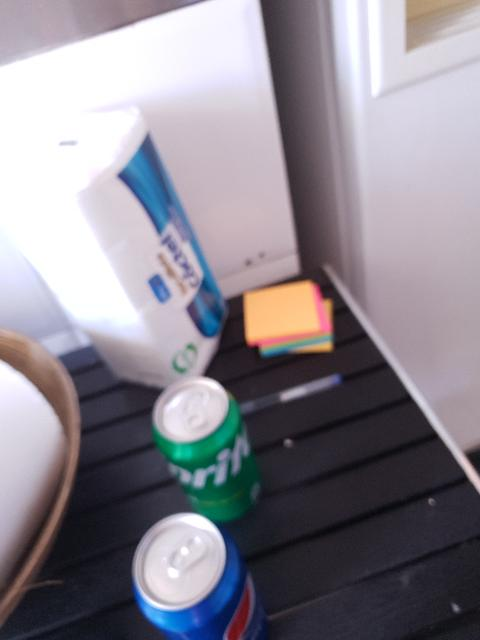pepsi: (137, 512, 265, 640)
sprite: (152, 372, 262, 522)
